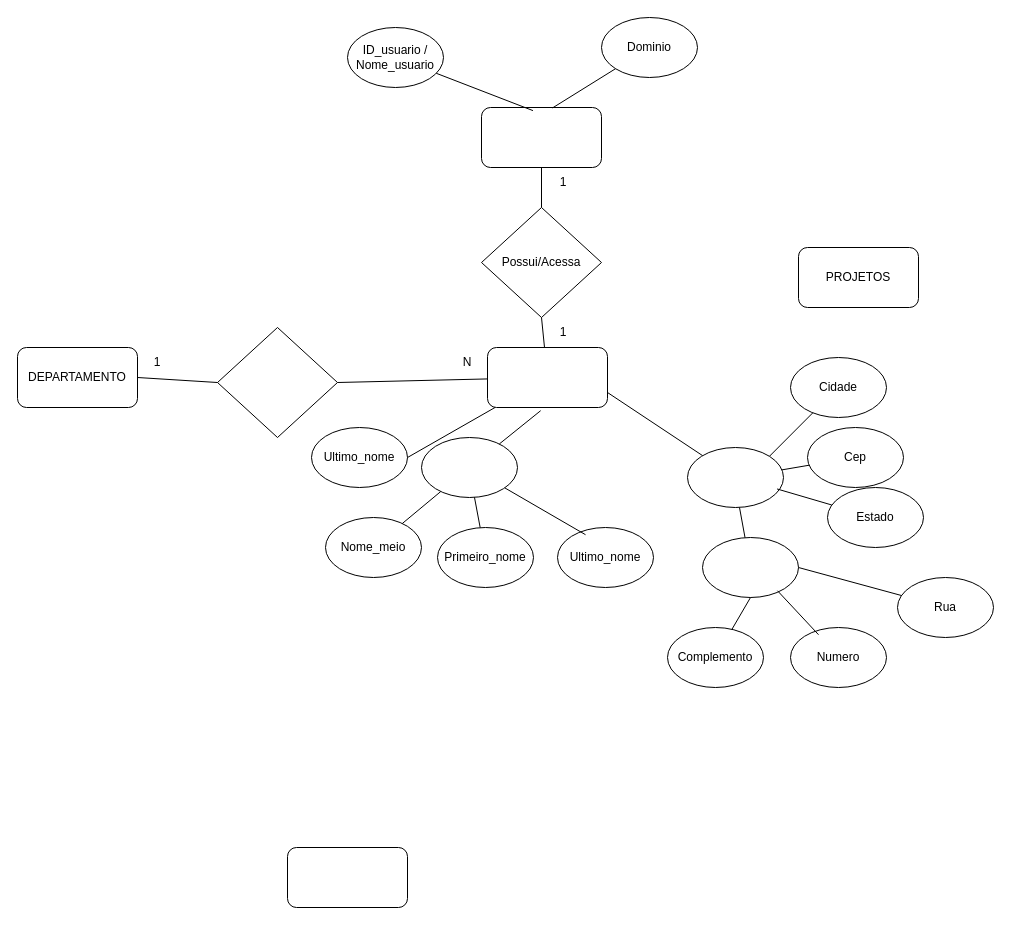
Image size: 1011x925. Some labels were removed from this diagram. The centre of each missing label's shape, as x and y in pixels:
"Endereco" belongs at pixel 735 477.
"FUNCIONARIO" belongs at pixel 547 377.
"Logradouro" belongs at pixel 750 567.
"Nome" belongs at pixel 469 467.
"TRABALHA_PARA" belongs at pixel 277 382.
"USUARIO" belongs at pixel 541 137.
